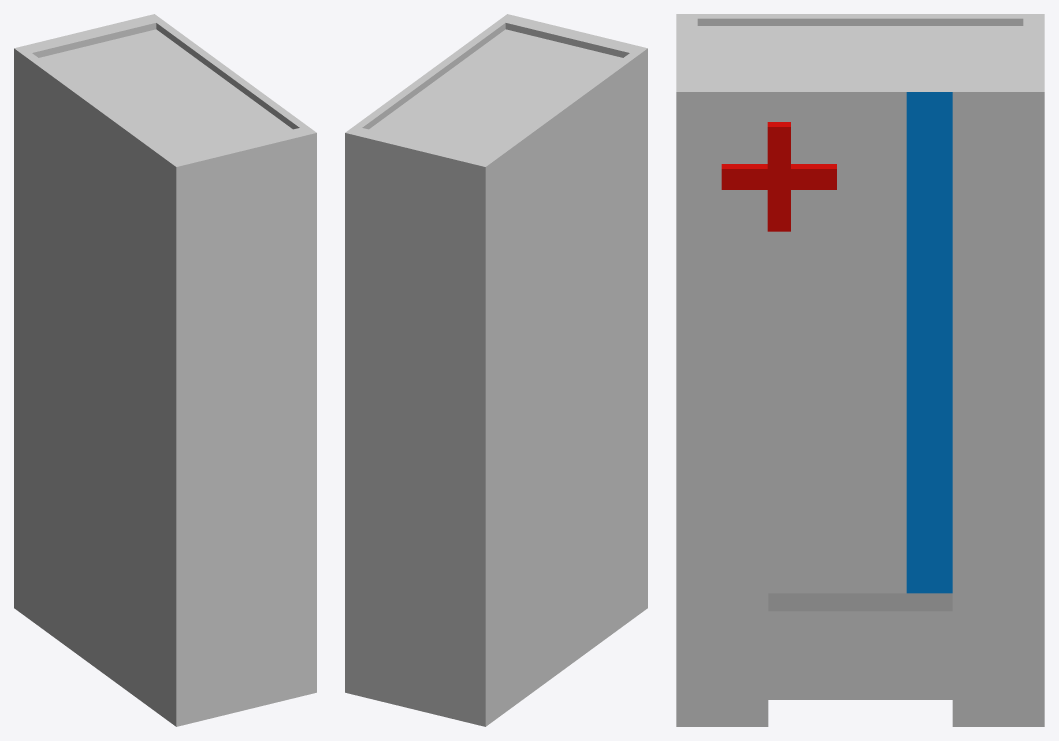
File: Hospital.fbx
3 views of the same model, side by side, from view 1: azimuth 30°, elevation 25°; view 2: azimuth 150°, elevation 25°; view 3: azimuth 270°, elevation 25° (orthographic). The views are drawn at different scales.
Visible parts, largest first — view 1: Cube.010; view 2: Cube.010; view 3: Cube.010, Cube.011.
Boxes of the visible parts, left/top/right/bottom form: Cube.010: left=14, top=14, right=316, bottom=726; Cube.010: left=345, top=14, right=647, bottom=726; Cube.010: left=676, top=14, right=1044, bottom=726; Cube.011: left=721, top=122, right=836, bottom=231.
Bounding box in the file's own units: 213 × 761 × 400.
